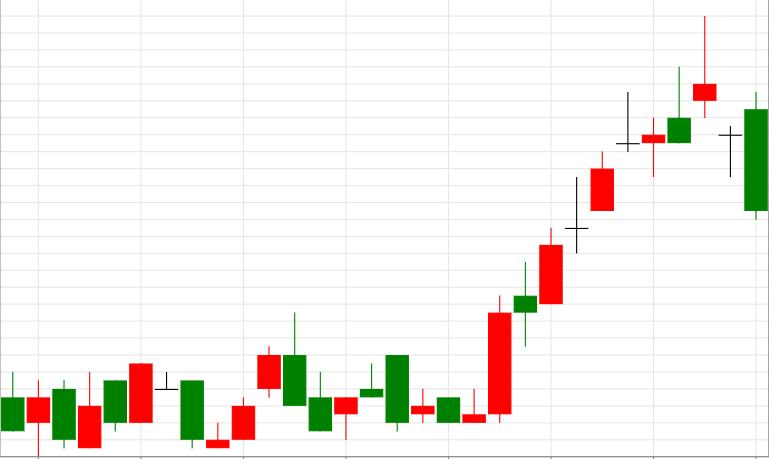bearish_engulfing_fall: (206, 312, 306, 448)
shooting_star_fall: (539, 16, 716, 305)
